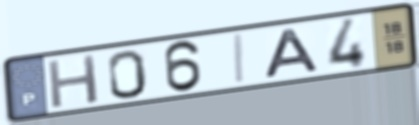0: (105, 47, 151, 100)
4: (324, 16, 369, 70)
6: (162, 39, 204, 94)
A: (262, 26, 323, 81)
H: (45, 51, 102, 111)
I: (233, 31, 249, 87)
